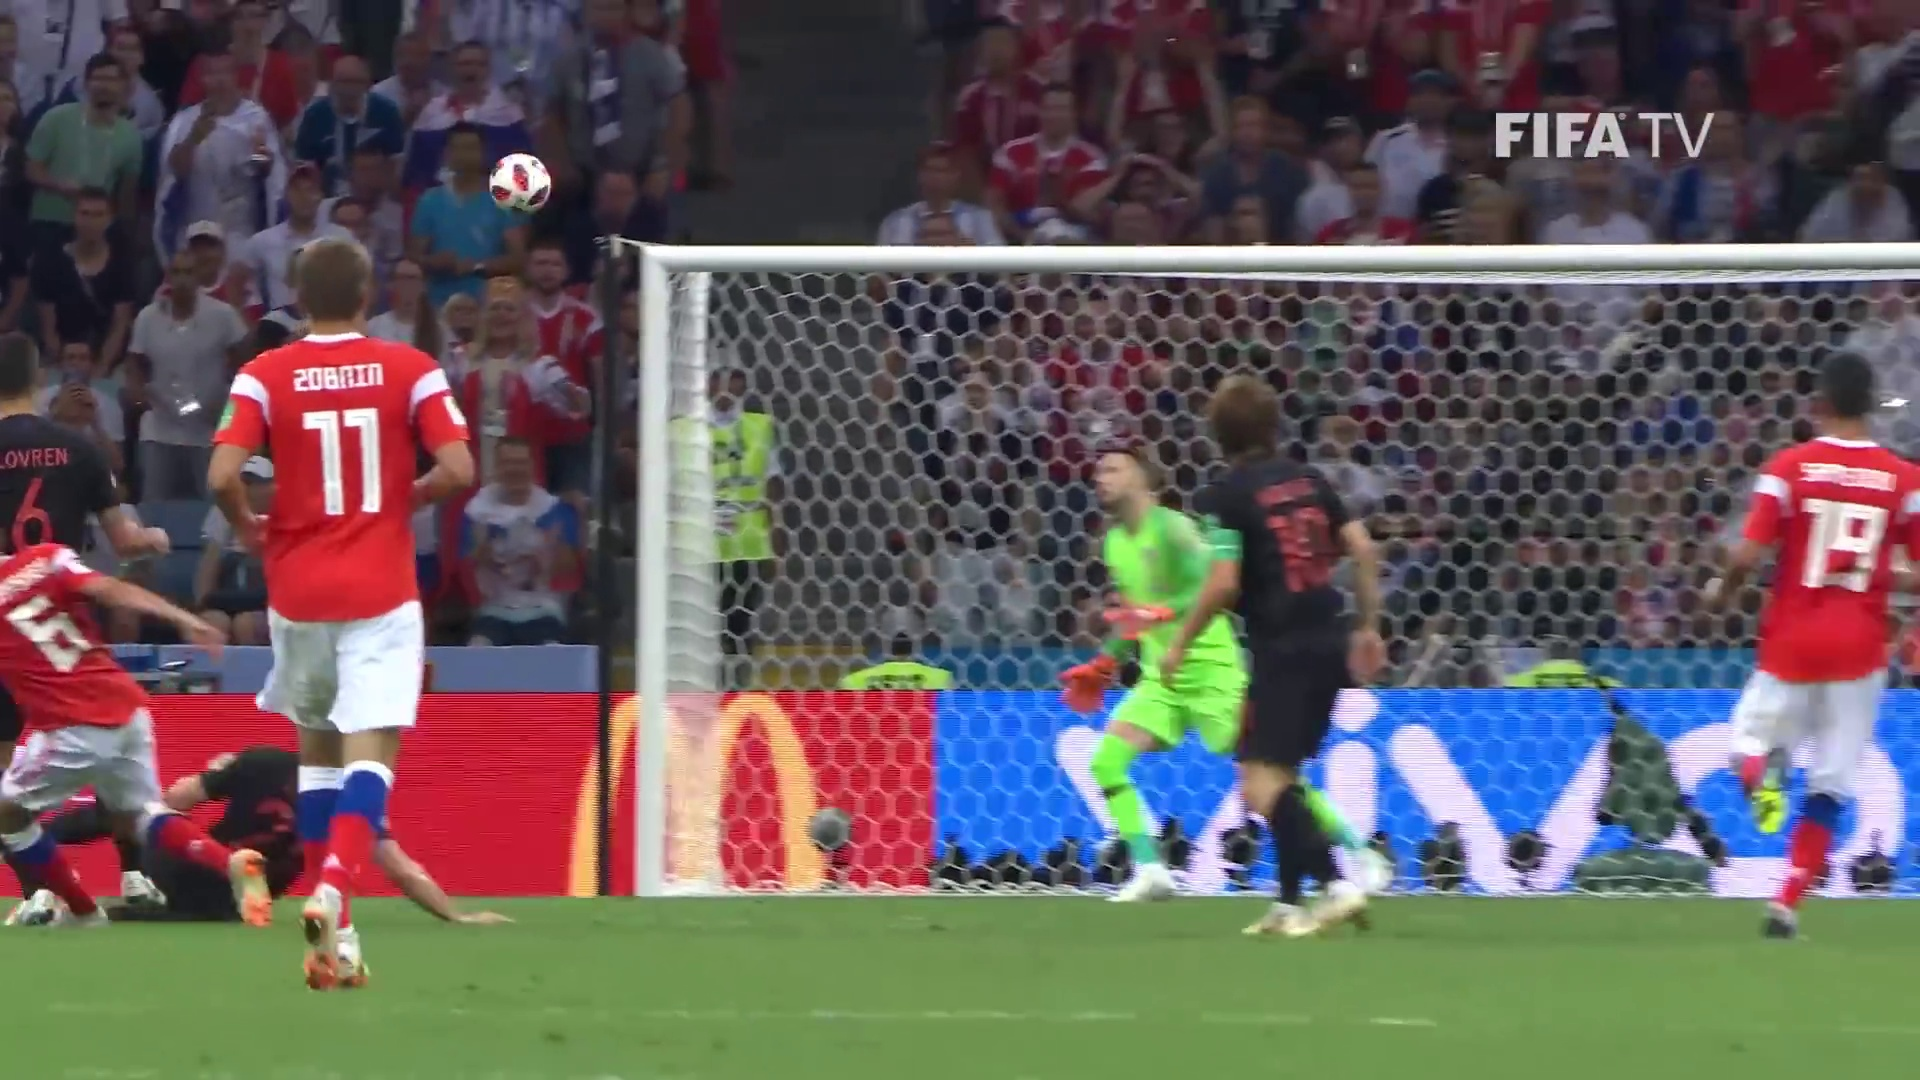ball: (486, 154, 550, 212)
person: (209, 235, 479, 987), (1087, 454, 1387, 906), (1160, 377, 1379, 946), (1716, 346, 1918, 933), (1, 535, 280, 932)
